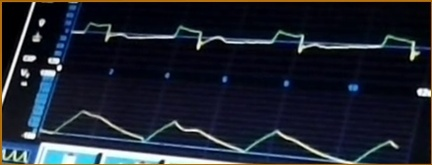Premature_cycling Flow: (74, 11, 420, 66)
Premature_cycling Volume: (44, 106, 397, 165)
